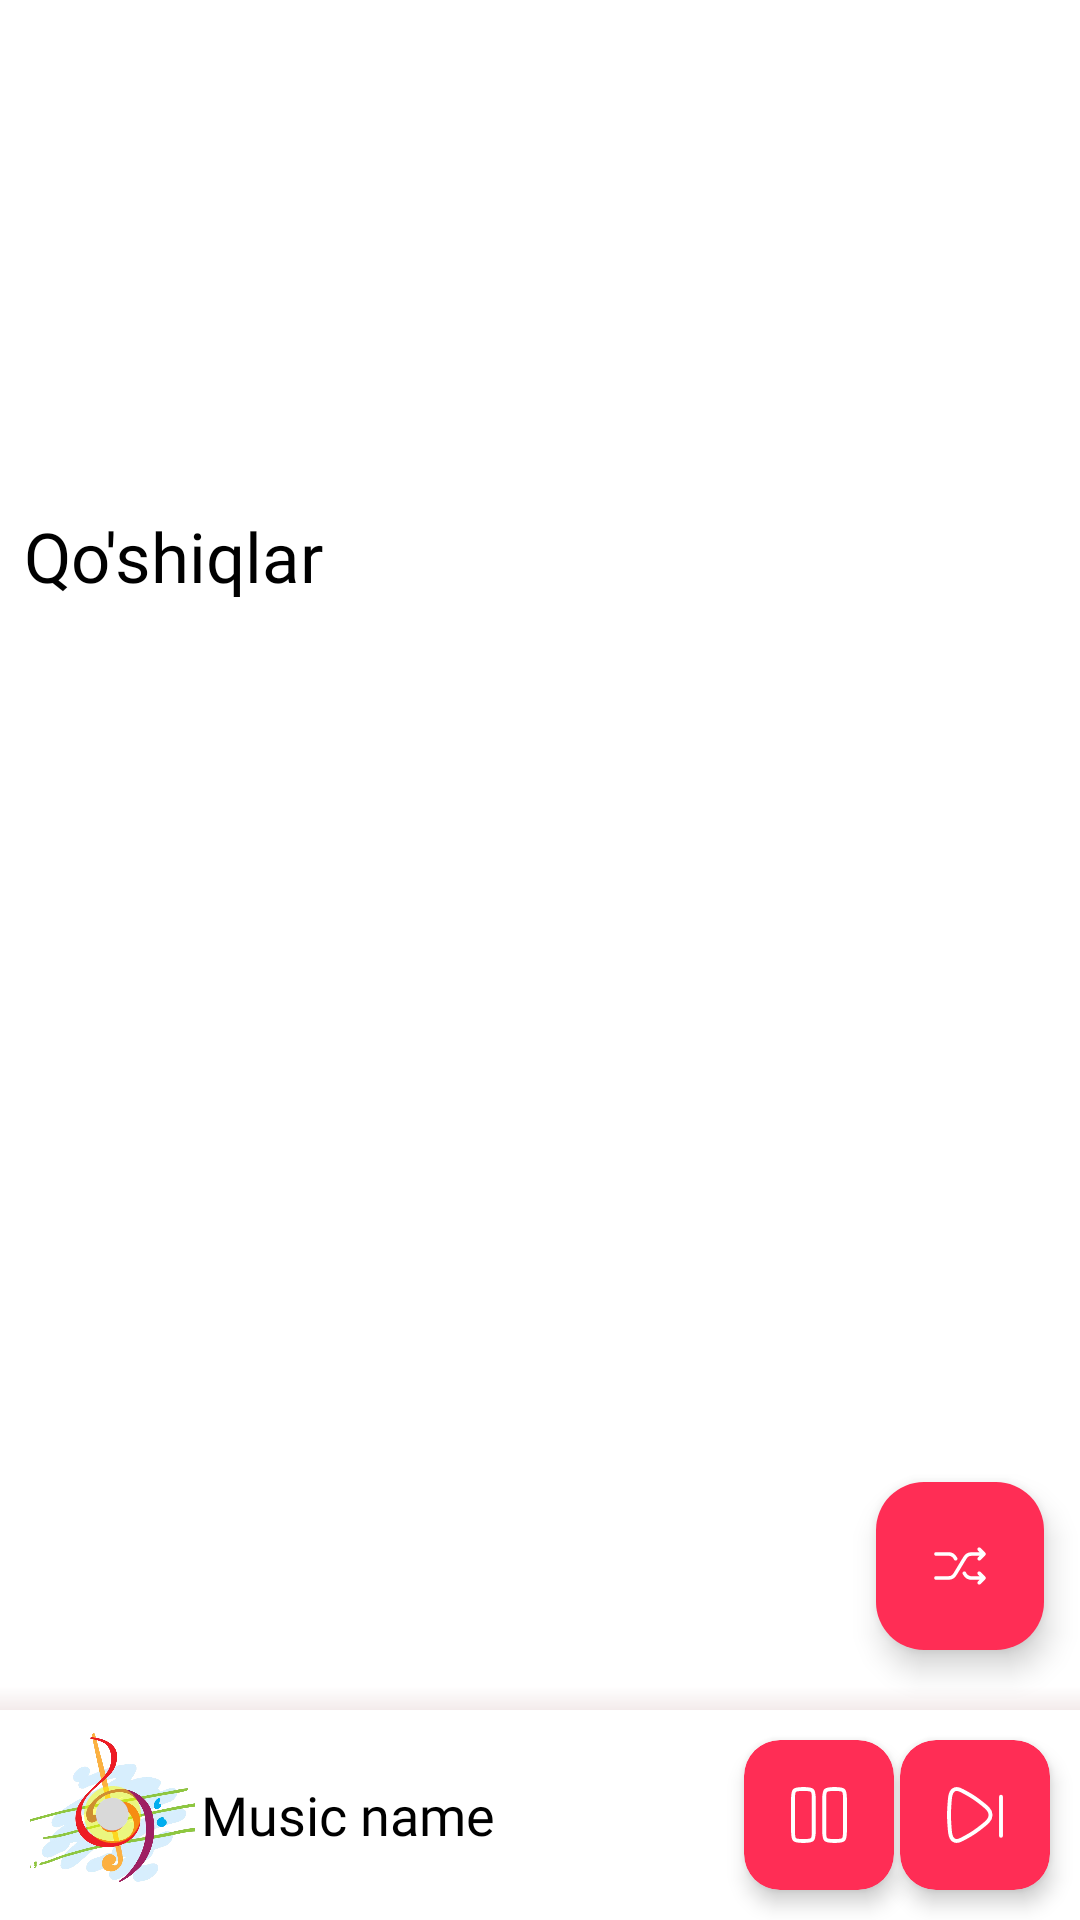

Screen size 1080*1920. Icon name, then its center in pixels as (x,y):
pause: (819,1815)
shuffle: (960,1566)
skip next: (975,1815)
